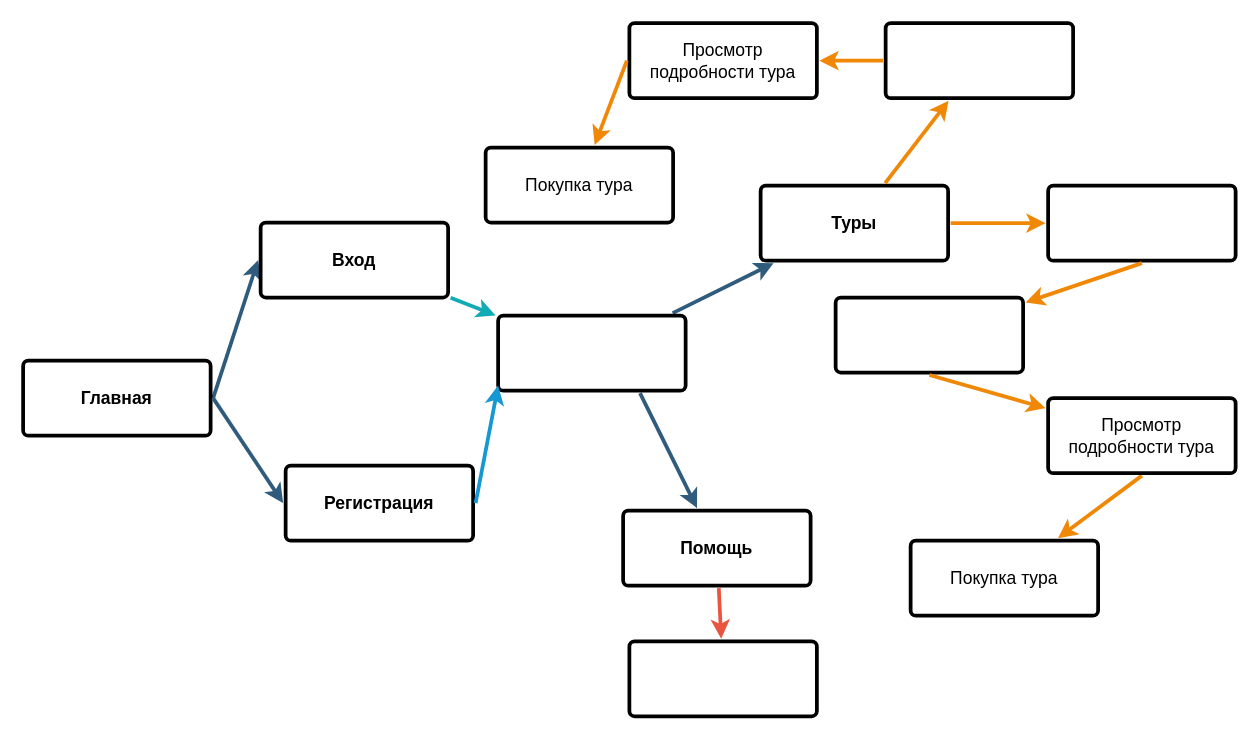
Some shapes in this 1259 by 740 pixel diagram are drawn without their labels. The shapes that lost their labels are listed below. From the top down, each one's centre as x and y in pixels, then its label:
the point at 978,60: Просмотр туров
the point at 1141,222: Поиск тура
the point at 591,352: Профиль
the point at 928,334: Просмотр найденных туров
the point at 722,678: Отправка пожелания
